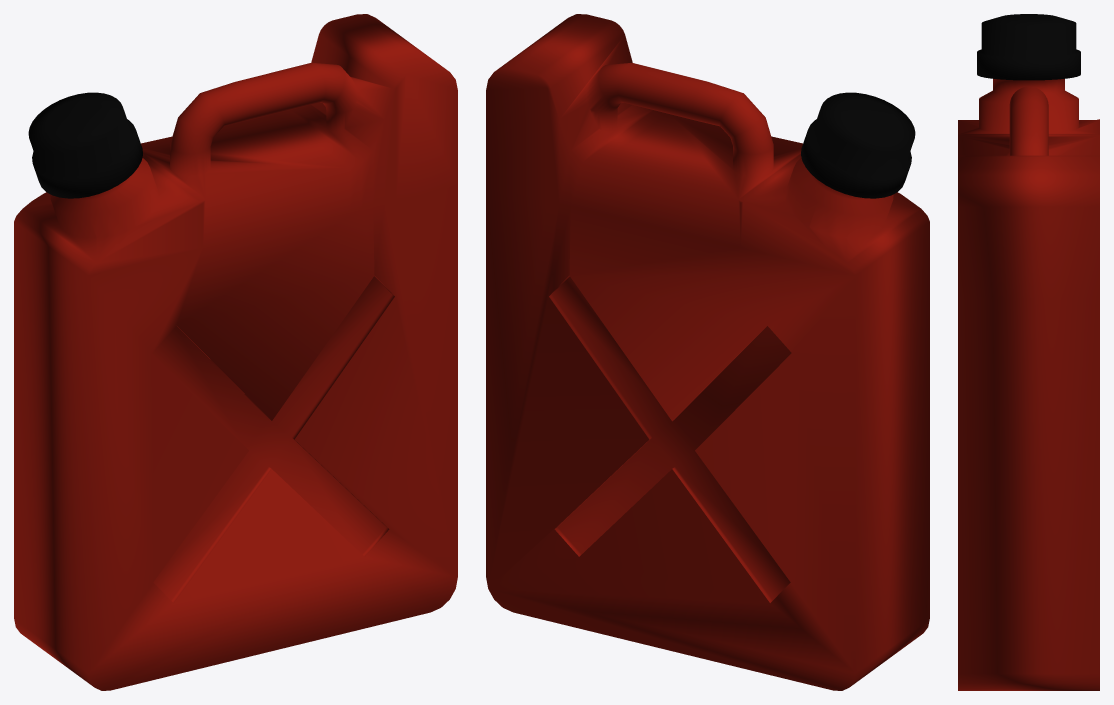
File: galão de gasolina.fbx
3 views of the same model, side by side, from view 1: azimuth 30°, elevation 25°; view 2: azimuth 150°, elevation 25°; view 3: azimuth 270°, elevation 25° (orthographic). The views are drawn at different scales.
Parts seen in each view (by area): view 1: Galão.001; view 2: Galão.001; view 3: Galão.001.
Boxes of the visible parts, box(x1,y1,x2,y2) form: Galão.001: box(14, 14, 457, 690); Galão.001: box(486, 14, 929, 690); Galão.001: box(958, 14, 1099, 690).
Bounding box in the file's own units: 71.96 × 98.91 × 24.
